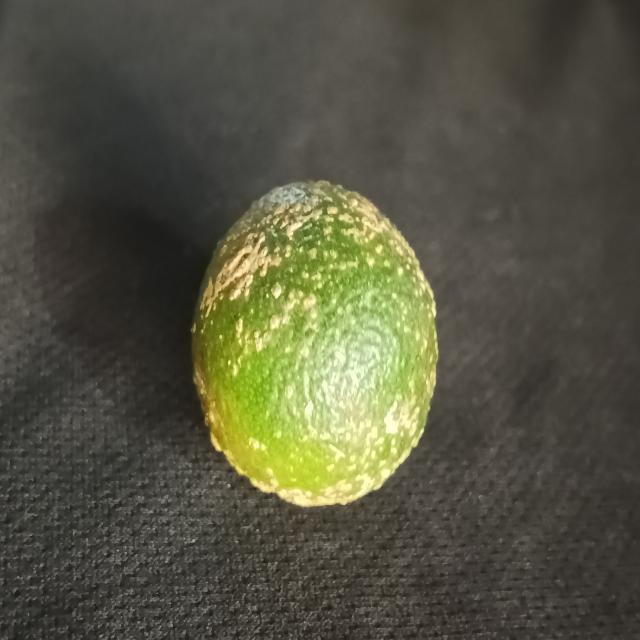scab: (184, 176, 438, 512)
